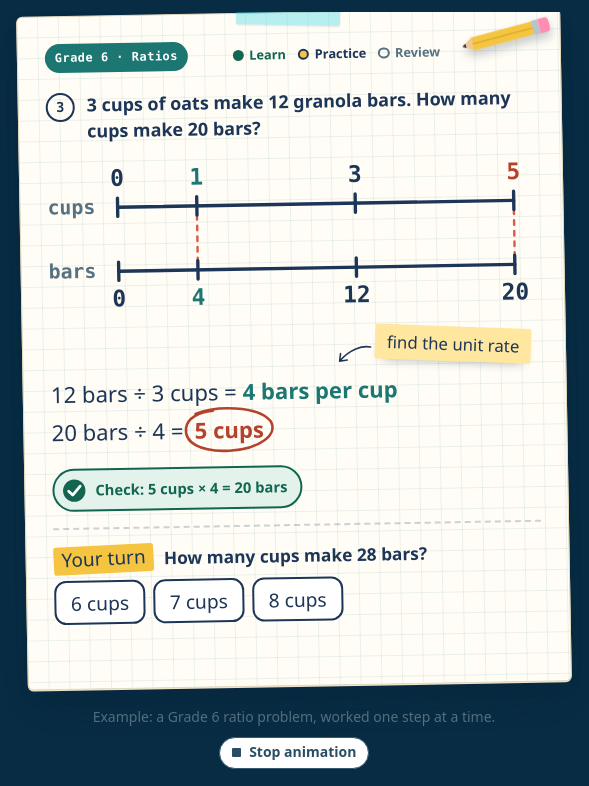
it: worked problem on the page › an answer to Your turn stops the cycle and stays on screen
Click the button "7 cups" at (199, 601), box [153,578,245,624]
Wait 30000 ms
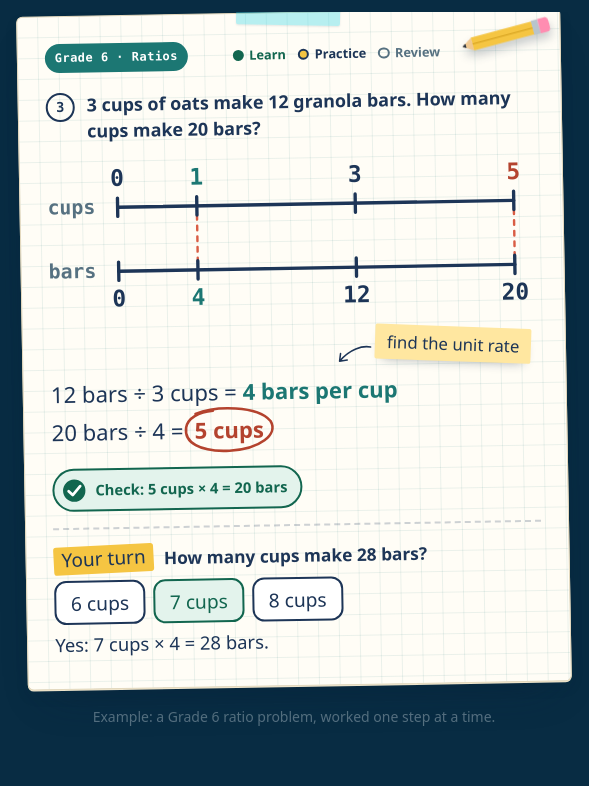
Expected: the button "Stop animation" is gone
Expected: the text "Yes: 7 cups × 4 = 28 bars." is shown, [55,629,269,657]
